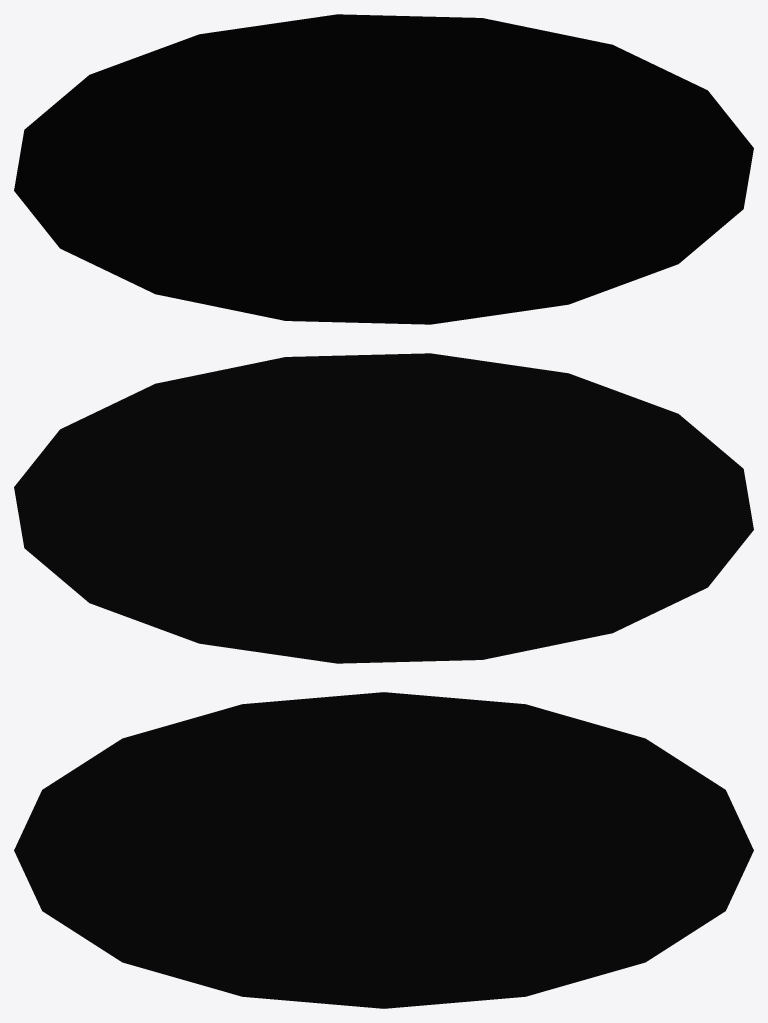
The picture shows the model from 3 angles, top to bottom: view 1: azimuth 30°, elevation 25°; view 2: azimuth 150°, elevation 25°; view 3: azimuth 270°, elevation 25°; orthographic projection.
Visible parts, largest first — view 1: Joint_0_Object_0; view 2: Joint_0_Object_0; view 3: Joint_0_Object_0.
Boxes of the visible parts, x1,y1,x2,y2 form: Joint_0_Object_0: (14, 14, 753, 324); Joint_0_Object_0: (14, 353, 753, 663); Joint_0_Object_0: (14, 692, 753, 1008).
Bounding box in the file's own units: 686 × 3.72 × 677.
1 material, 1 textured.
